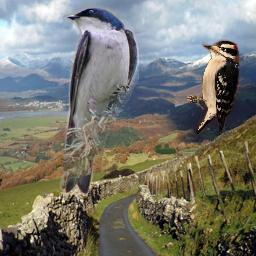Swallow: (57, 5, 139, 196)
Woodpecker: (185, 38, 241, 134)
